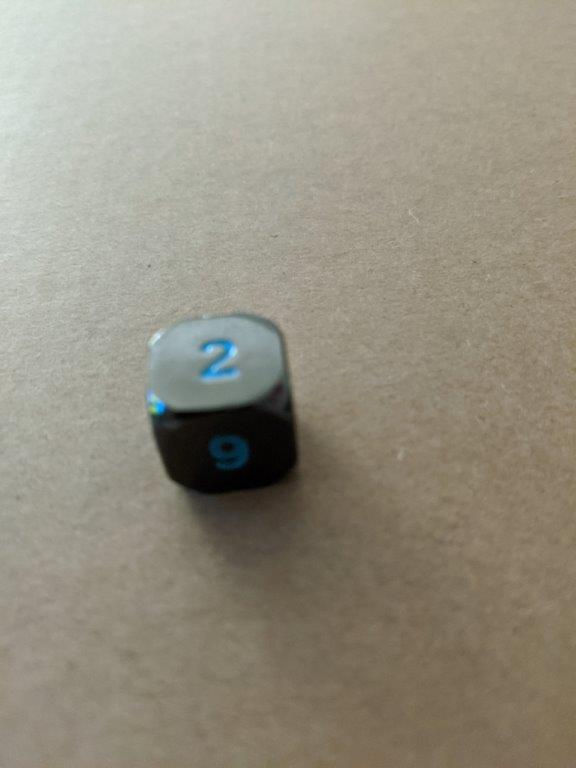d6-2: (141, 311, 301, 495)
